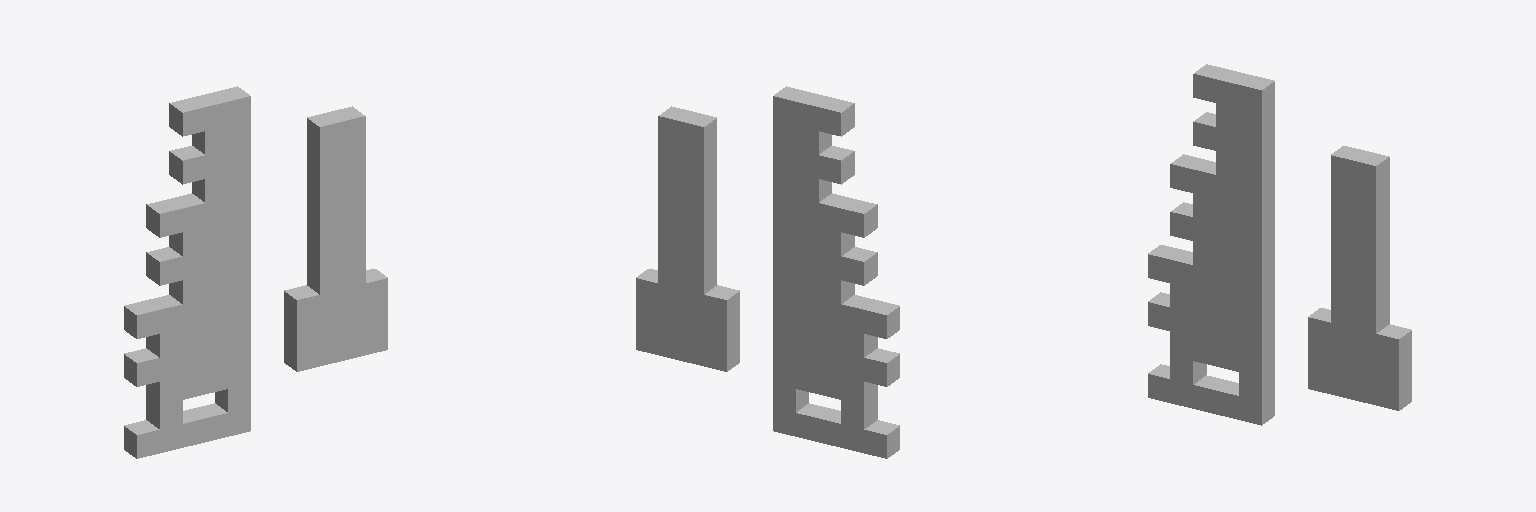
The model's file is 4 tes serr.obj.
3 views of the same model, side by side, from view 1: azimuth 30°, elevation 25°; view 2: azimuth 150°, elevation 25°; view 3: azimuth 330°, elevation 25° (orthographic).
Visible parts, largest first — view 1: object 1; view 2: object 1; view 3: object 1.
Part boxes in pixels (x1,y1,x2,y2): object 1: (124,86,387,458); object 1: (636,86,899,458); object 1: (1148,64,1411,425).
Size of the model in its own units: 1.1 by 1.4 by 0.1.